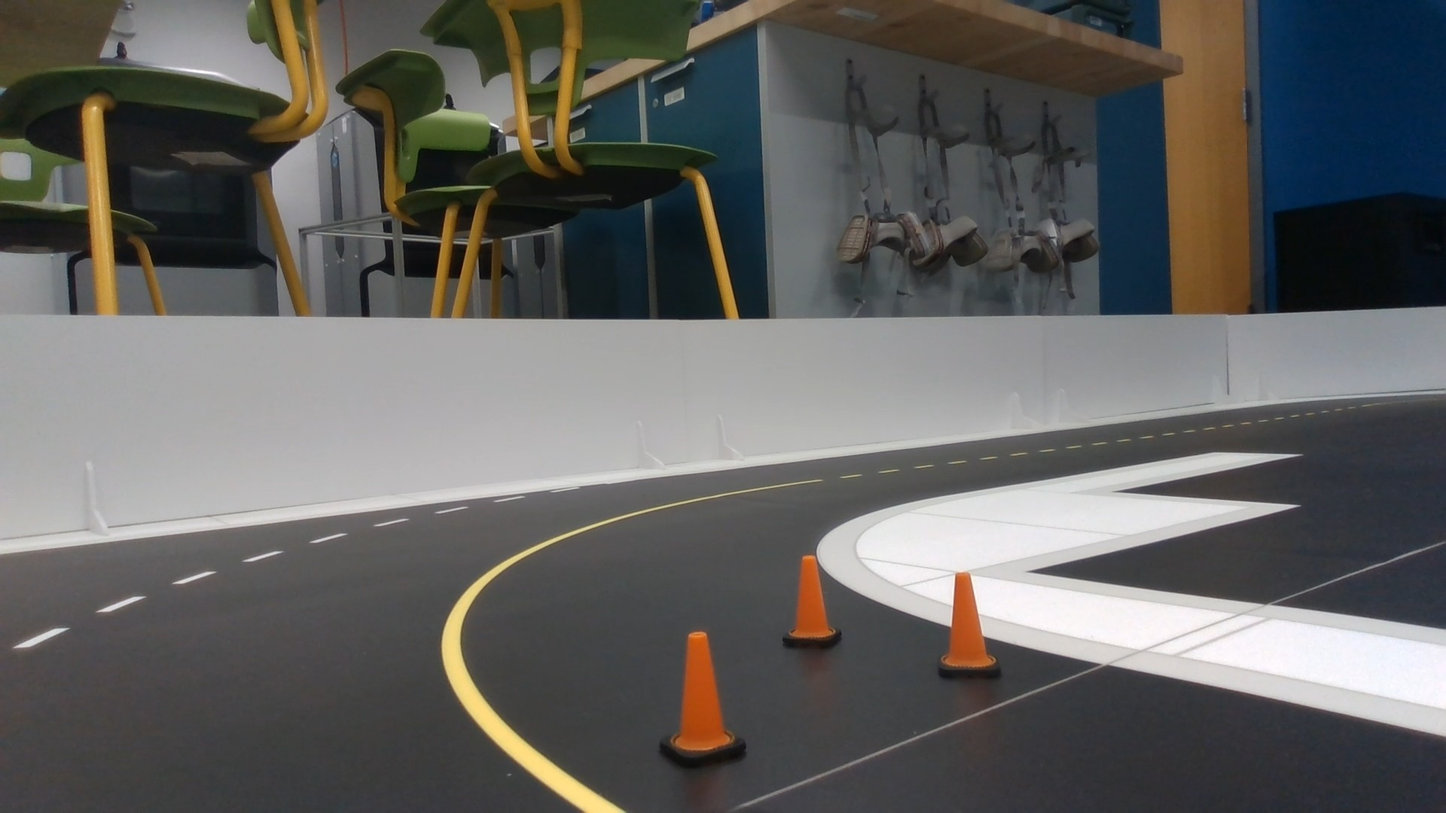Traffic Cone: (660, 632, 745, 766), (938, 573, 999, 677), (782, 555, 840, 647)
